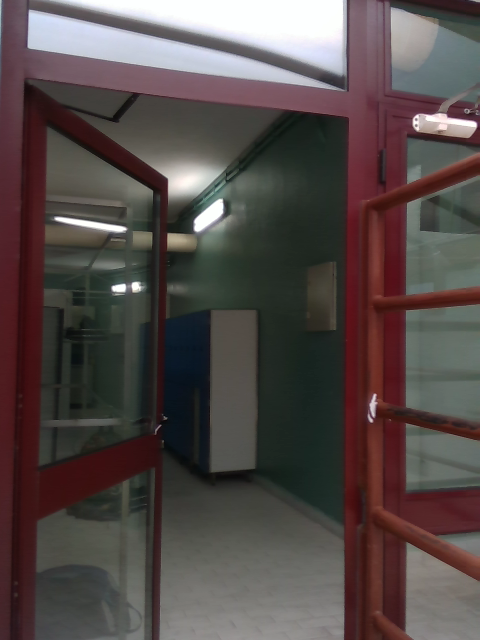open: (10, 50, 372, 637)
